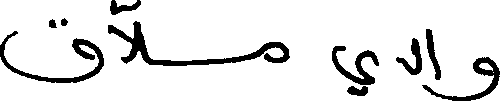ا: (423, 27, 440, 81)
د: (394, 36, 421, 86)
ق: (0, 16, 103, 83)
لا: (107, 0, 145, 64)
م: (261, 39, 289, 63)
و: (472, 55, 499, 100)
ي: (330, 44, 378, 96)
